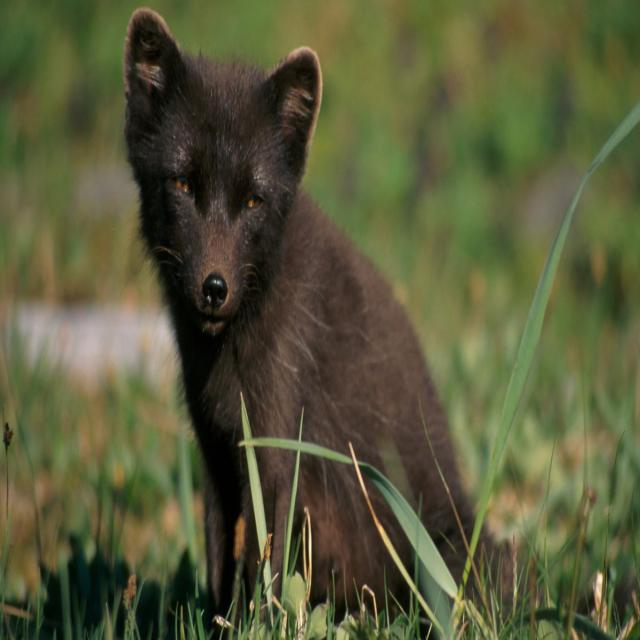Wolf: (121, 5, 517, 636)
